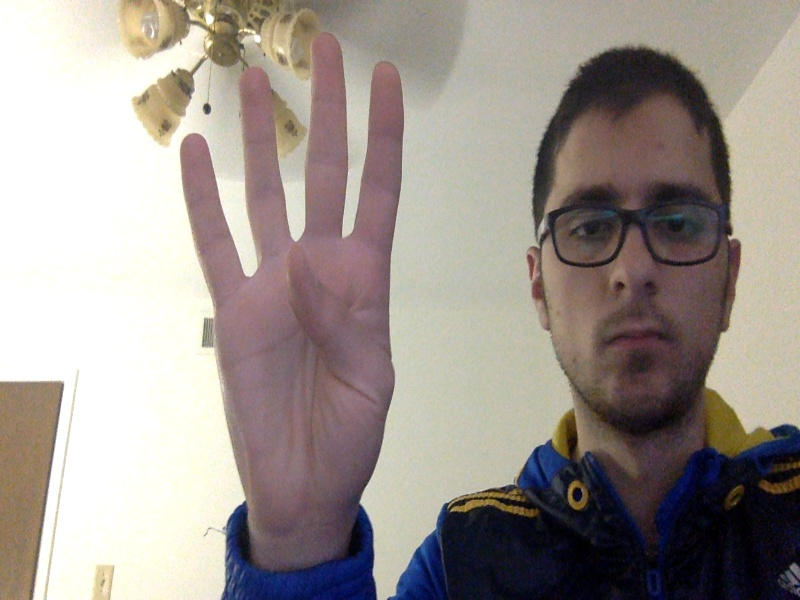4-hand: (179, 34, 413, 532)
